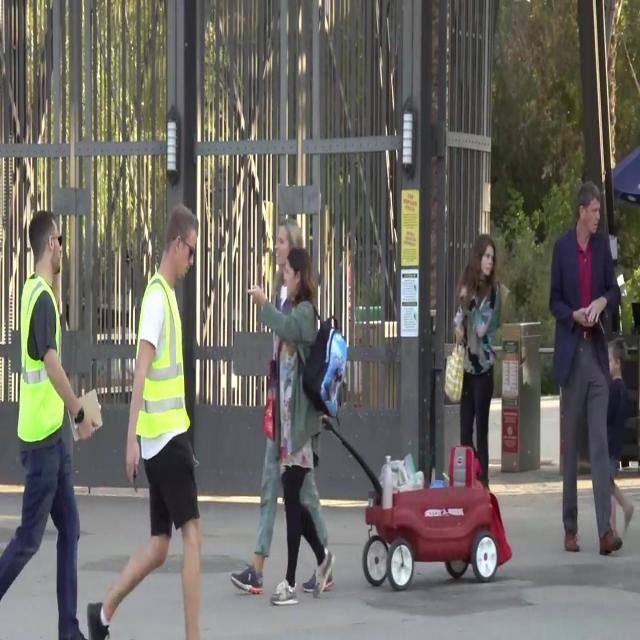Reflective-Jacket: (126, 270, 196, 465), (9, 270, 75, 451)
